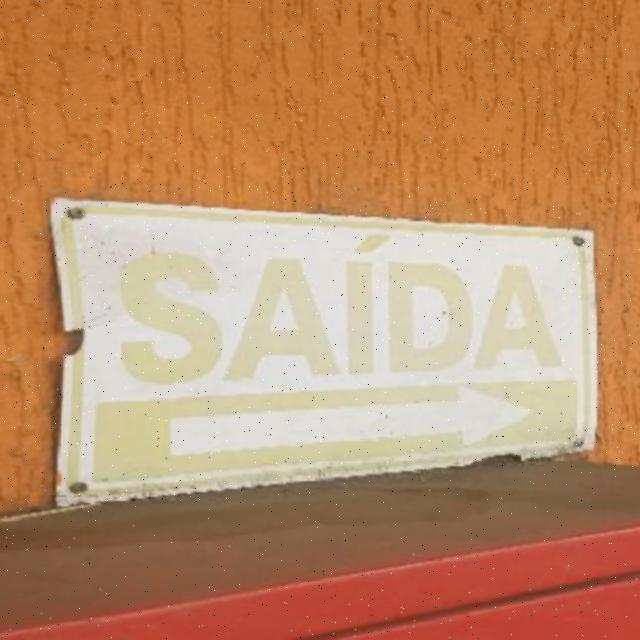emergency_exit: (48, 195, 599, 506)
